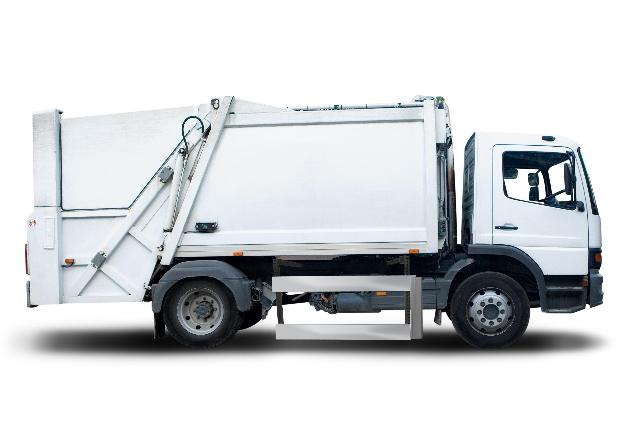truck: (21, 87, 608, 387)
